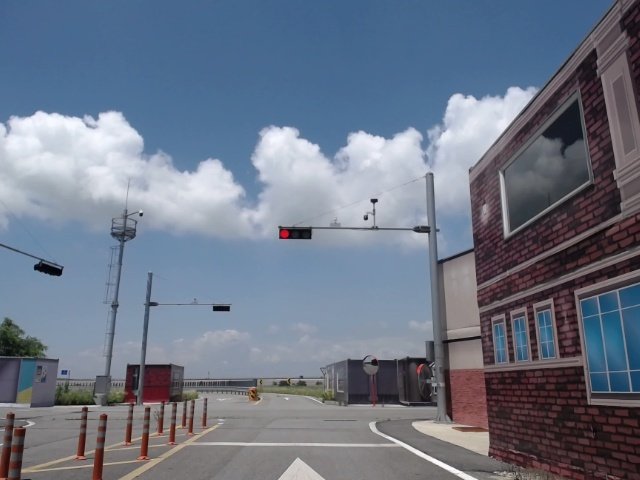red_3: (280, 229, 313, 240)
